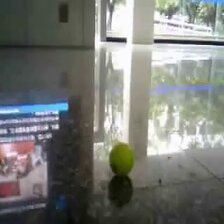tennis: (108, 143, 135, 175)
